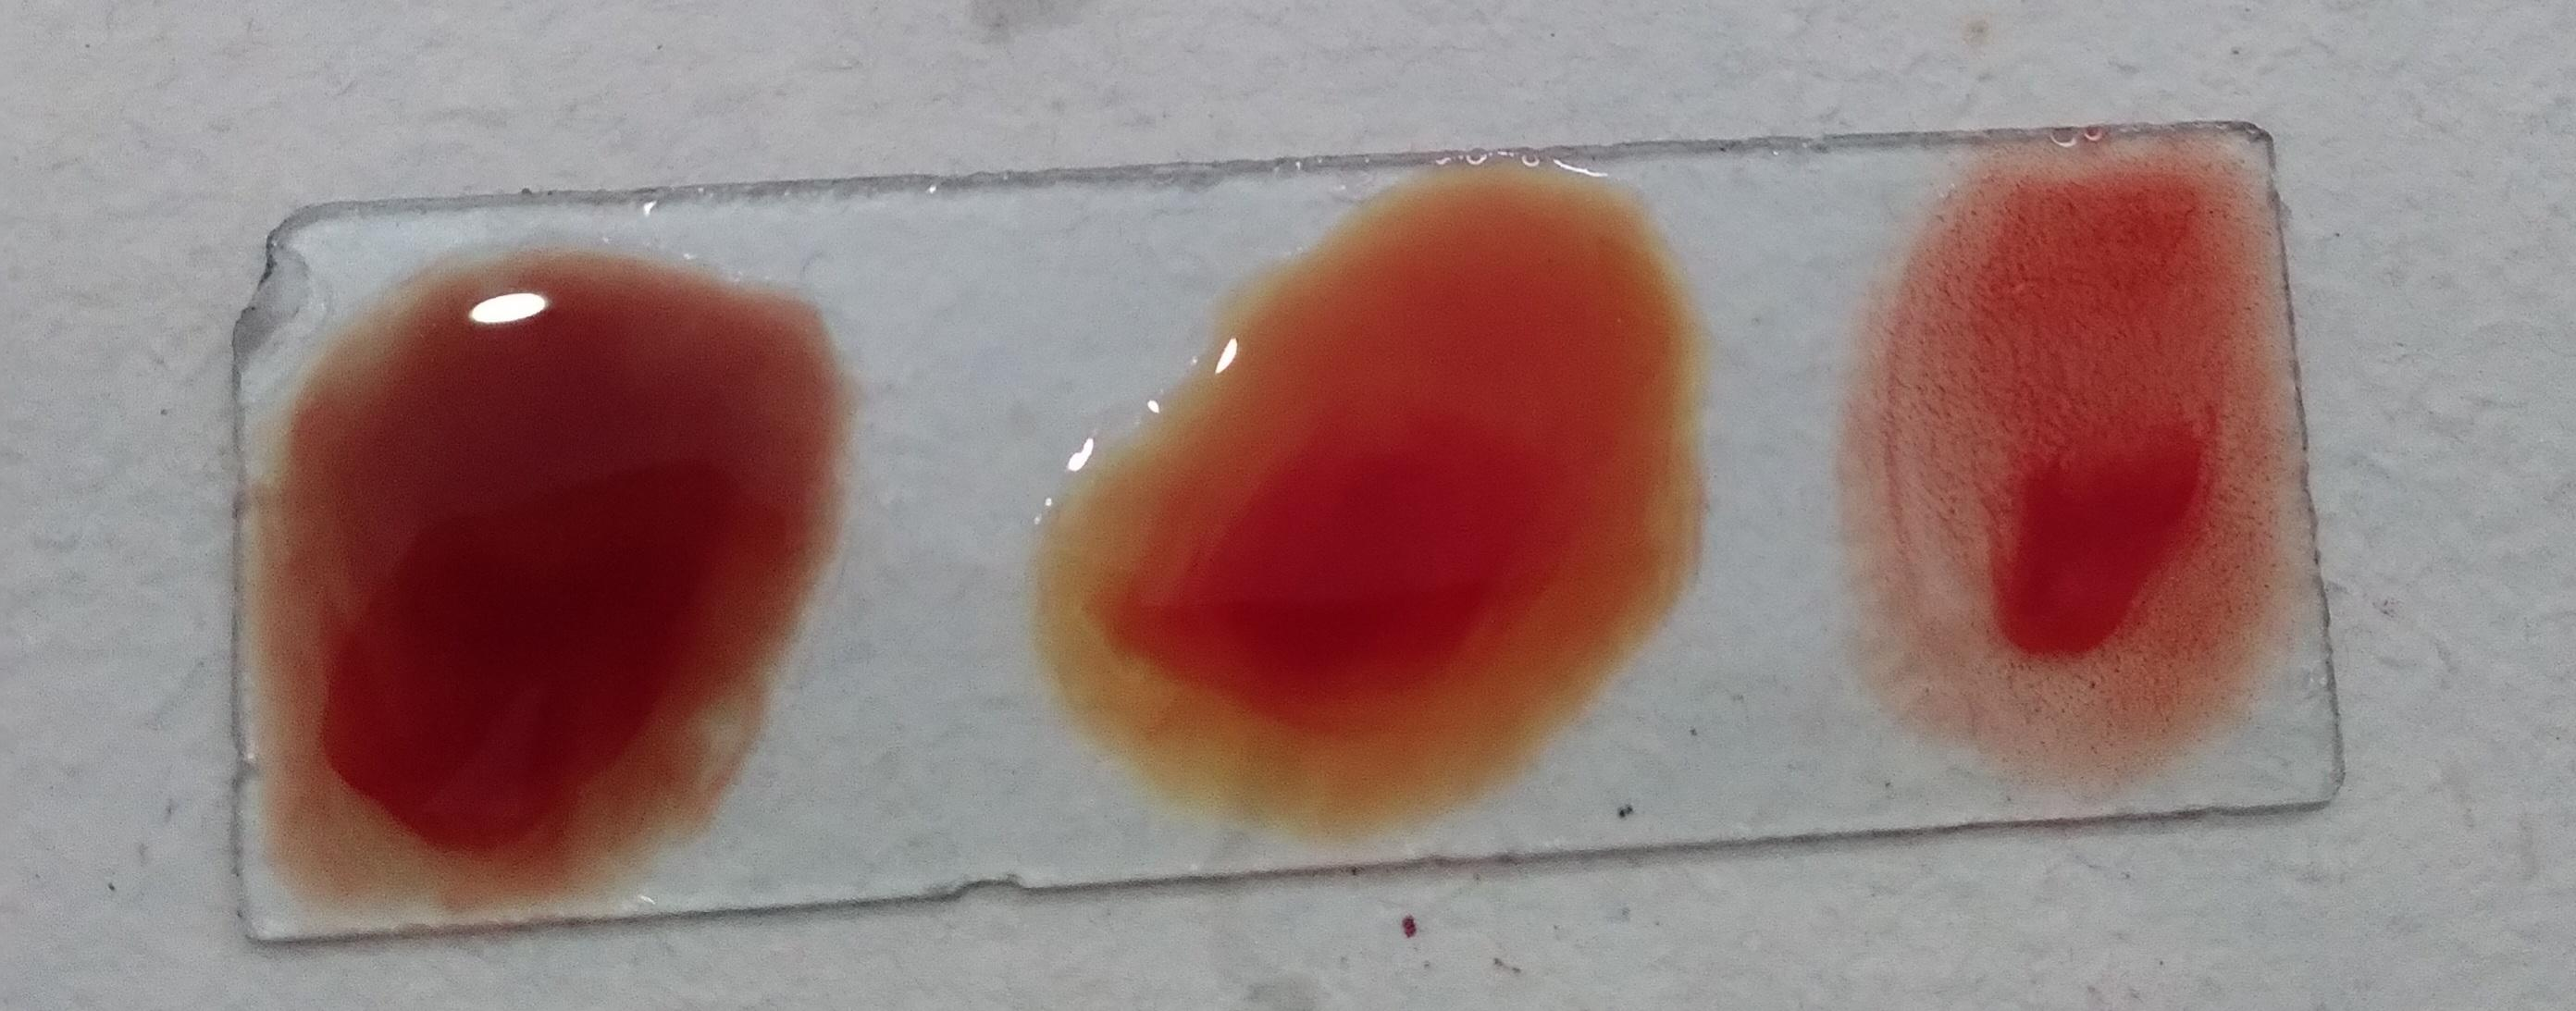D: (1871, 140, 2267, 760)
